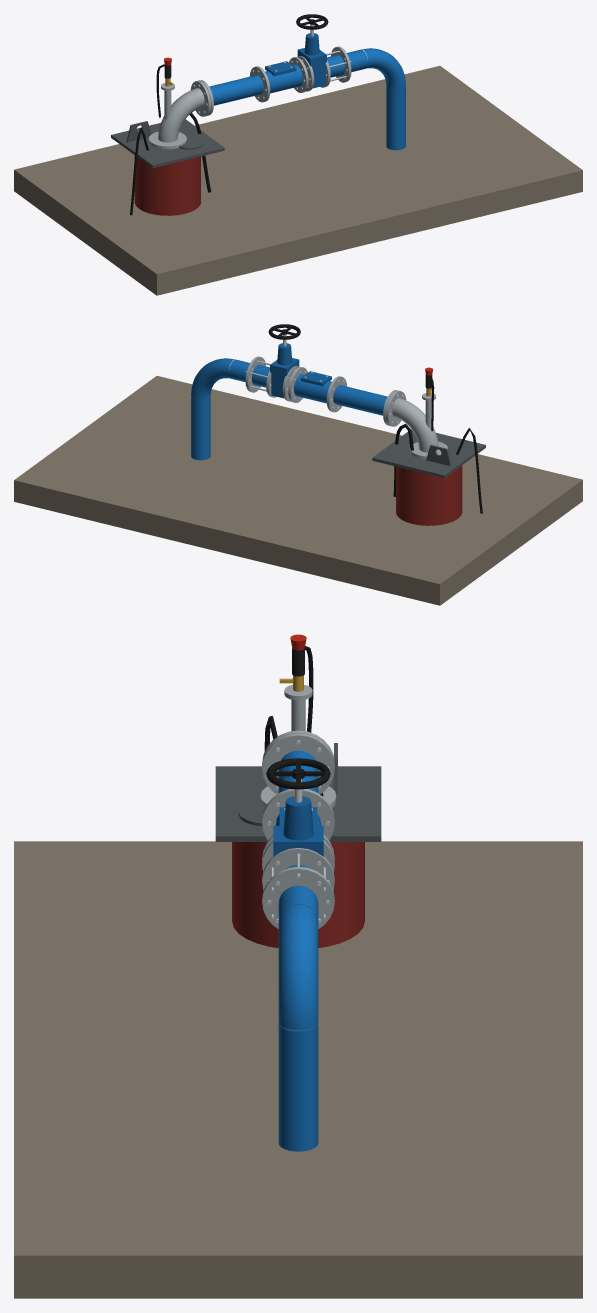
File: bomba-pozo.glb
3 views of the same model, one above another, from view 1: azimuth 30°, elevation 25°; view 2: azimuth 150°, elevation 25°; view 3: azimuth 270°, elevation 25° (orthographic). The views are drawn at different scales.
Parts seen in each view (by area): view 1: DEEP_WELL_PUMP_HEAD, flange; view 2: DEEP_WELL_PUMP_HEAD, flange; view 3: DEEP_WELL_PUMP_HEAD, flange (×4).
Part boxes in pixels (x1,y1,x2,y2): DEEP_WELL_PUMP_HEAD: [14, 14, 582, 295]; flange: [249, 66, 270, 102]; DEEP_WELL_PUMP_HEAD: [14, 324, 582, 605]; flange: [326, 376, 347, 412]; DEEP_WELL_PUMP_HEAD: [14, 634, 582, 1298]; flange (×4): [262, 733, 334, 928].
Bounding box in the file's own units: 6.2 × 2.46 × 3.6.
